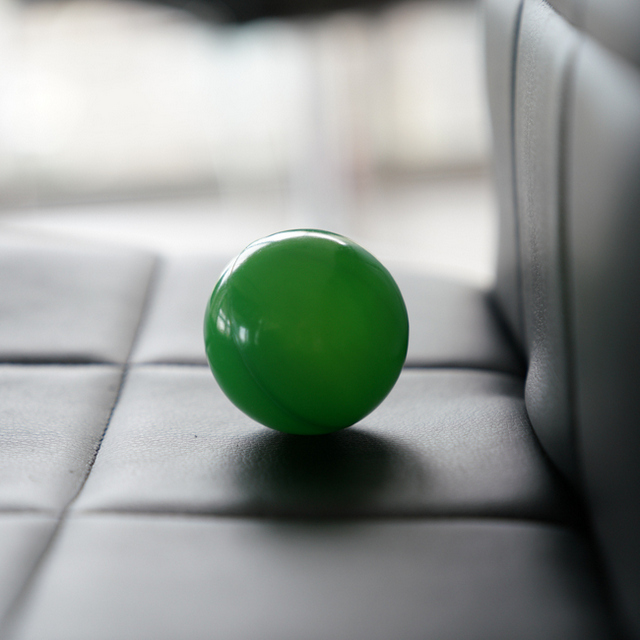Ball: (206, 230, 410, 435)
